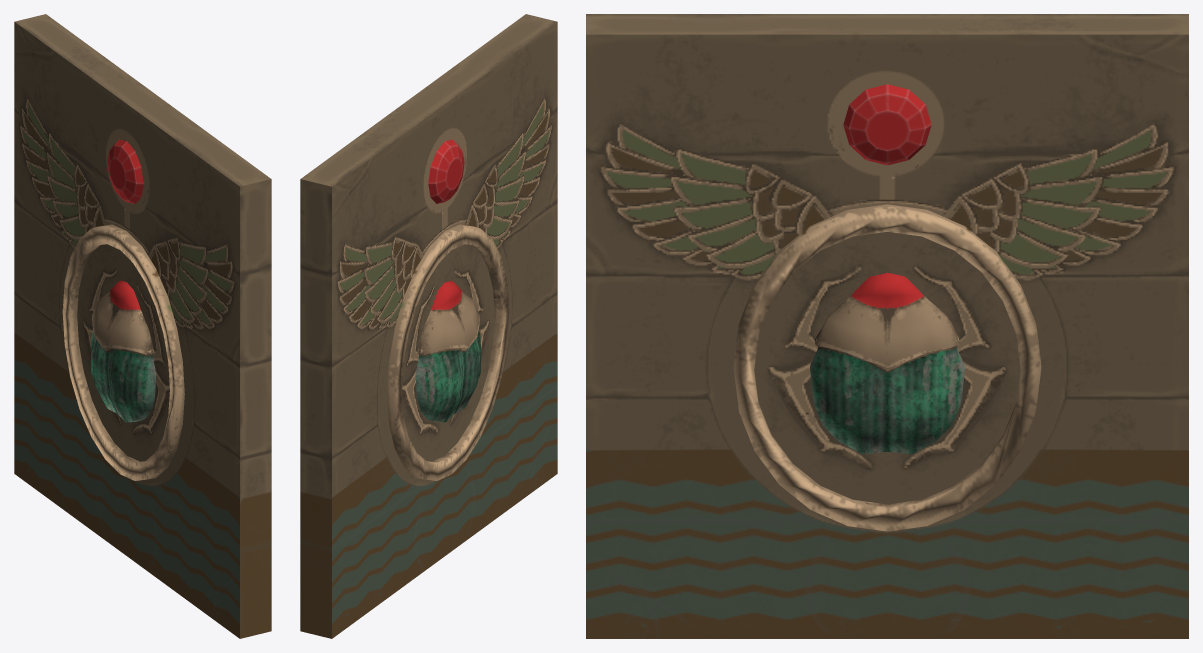
File: sarcophagus.glb
3 views of the same model, side by side, from view 1: azimuth 30°, elevation 25°; view 2: azimuth 150°, elevation 25°; view 3: azimuth 270°, elevation 25° (orthographic). The views are drawn at different scales.
Parts seen in each view (by area): view 1: Door_Art; view 2: Door_Art; view 3: Door_Art.
Part boxes in pixels (x1,y1,x2,y2): Door_Art: (14, 14, 271, 638); Door_Art: (300, 14, 557, 638); Door_Art: (586, 14, 1188, 638).
Size of the model in its own units: 0.9532 by 5.01 by 4.53.
Materials: 1 (1 with a texture image).
